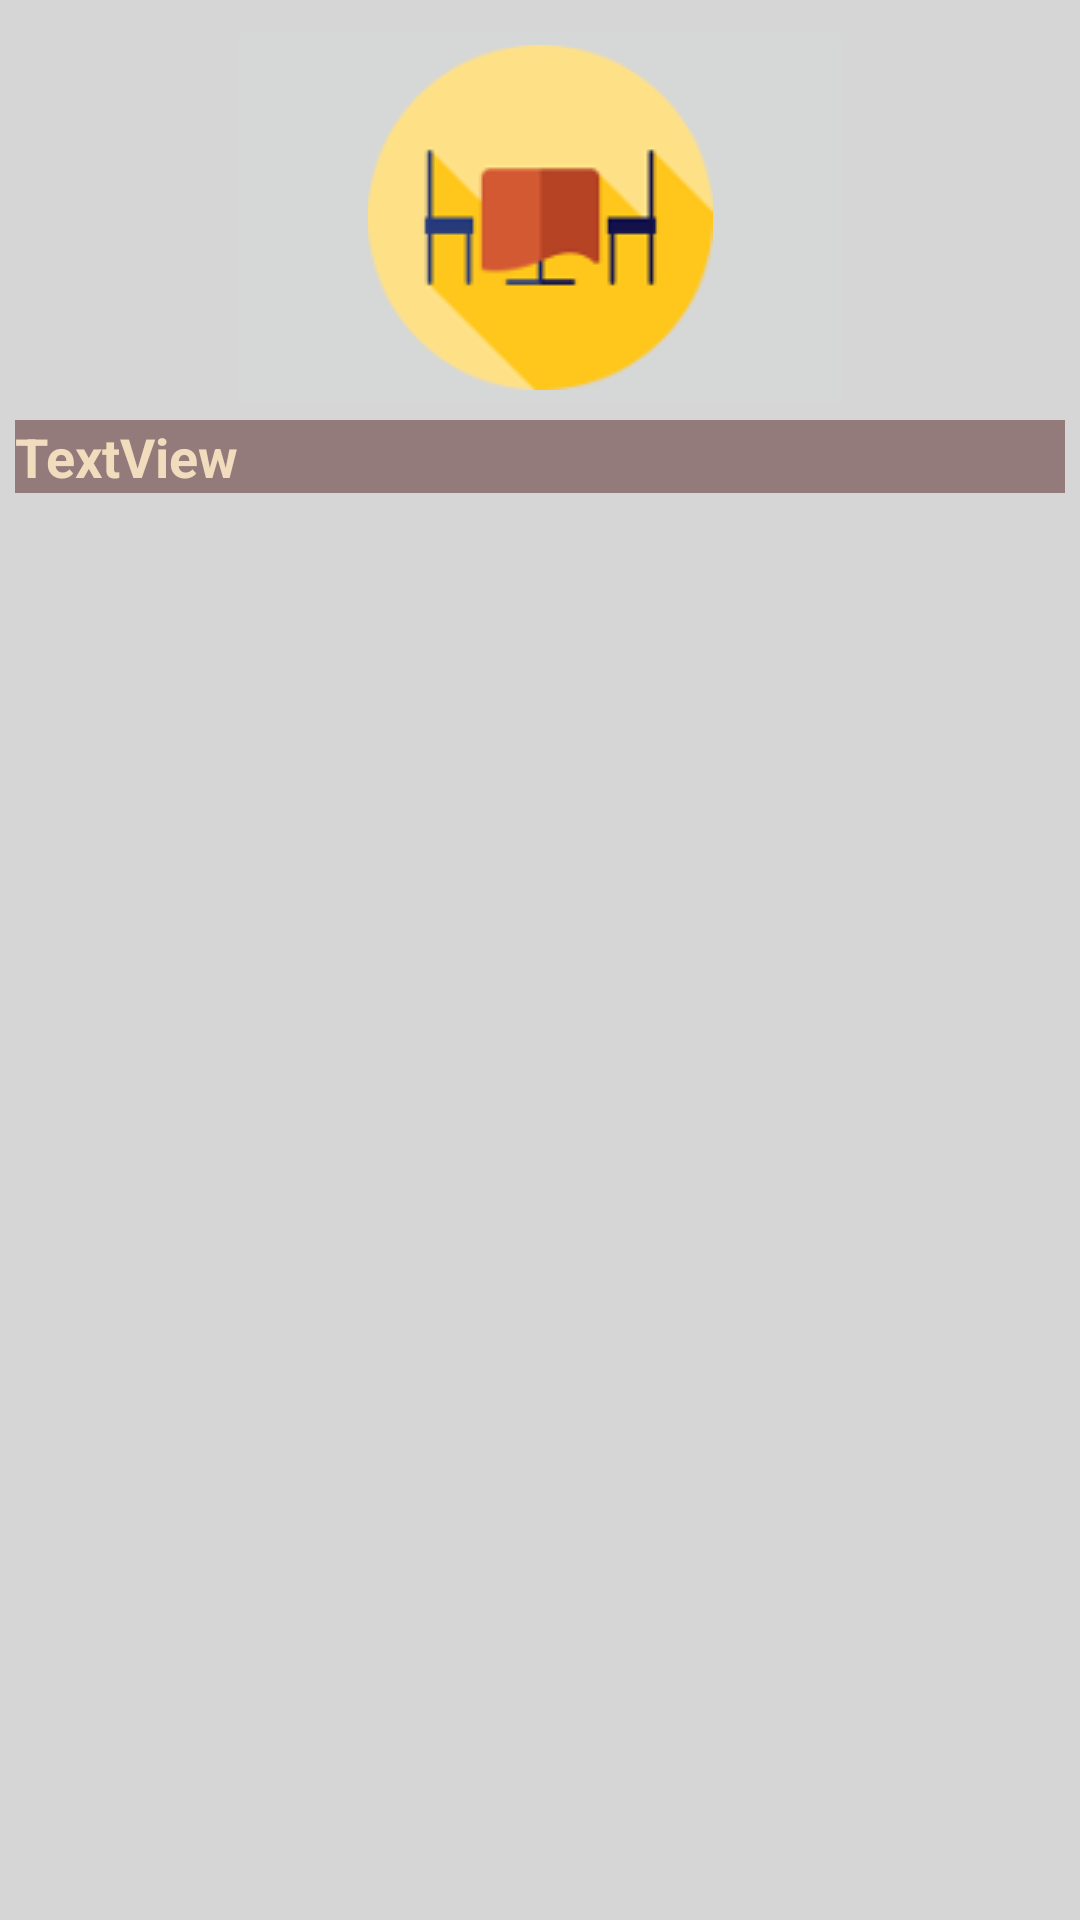

Icon click points for this 1080px×1920px phone screenshot, format [x,y]:
taula: [540,217]
